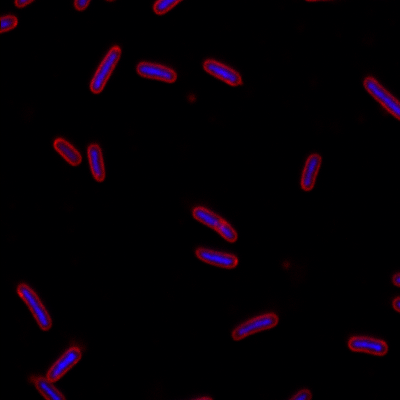Rifampicin: (189, 203, 238, 244), (15, 282, 54, 333), (87, 43, 123, 94), (228, 312, 280, 343), (44, 345, 84, 384), (193, 243, 240, 273), (201, 58, 244, 88), (134, 60, 179, 85), (51, 135, 84, 167), (346, 333, 389, 357), (299, 152, 323, 191), (85, 142, 107, 183)
Vesicle: (278, 256, 294, 272), (185, 91, 196, 104)
